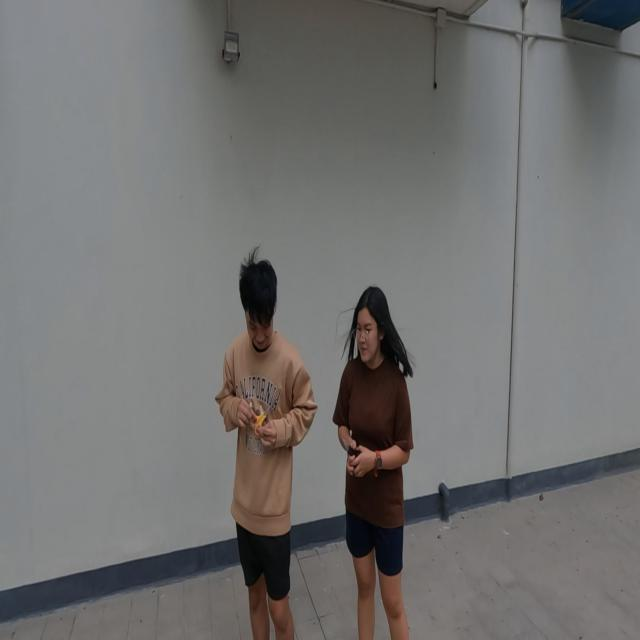scissor: (250, 395, 278, 437), (342, 438, 362, 468)
